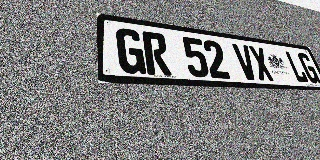2: (202, 39, 230, 79)
5: (182, 36, 211, 78)
G: (116, 27, 146, 74), (296, 52, 320, 84)
L: (284, 51, 309, 83)
R: (142, 31, 172, 76)
V: (232, 43, 259, 80)
X: (248, 46, 275, 81)
